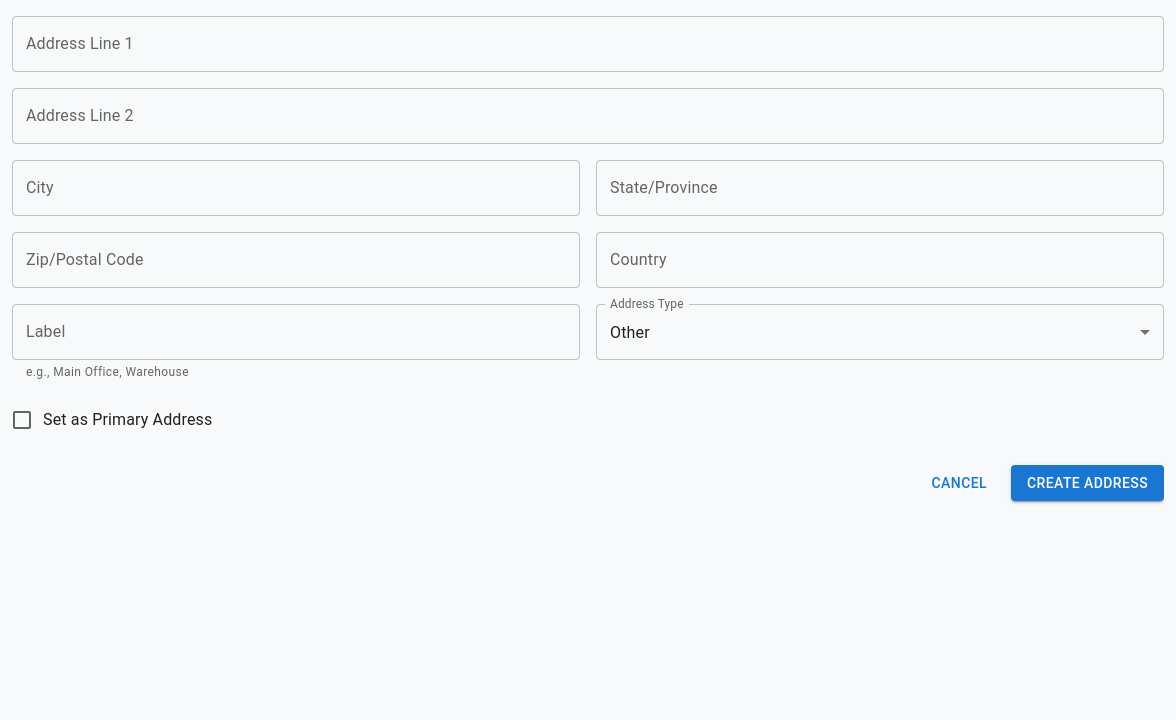
AddressFormComponent › Form Submission › disables submit button while submitting
The width and height of the screenshot is (1176, 720).
Type "123 Main Street" into the field labelled "Address Line 1" at [588, 44], box [12,16,1164,72]
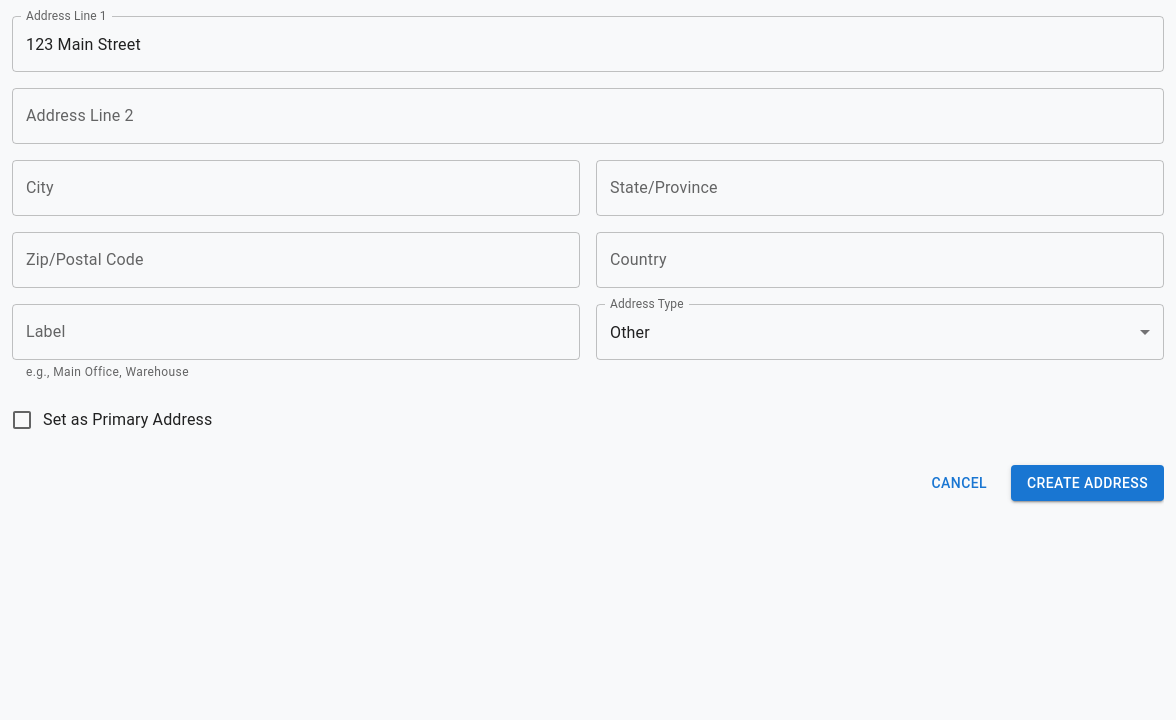
Type "New York" into the field labelled "City" at [296, 188], box [12,160,580,216]
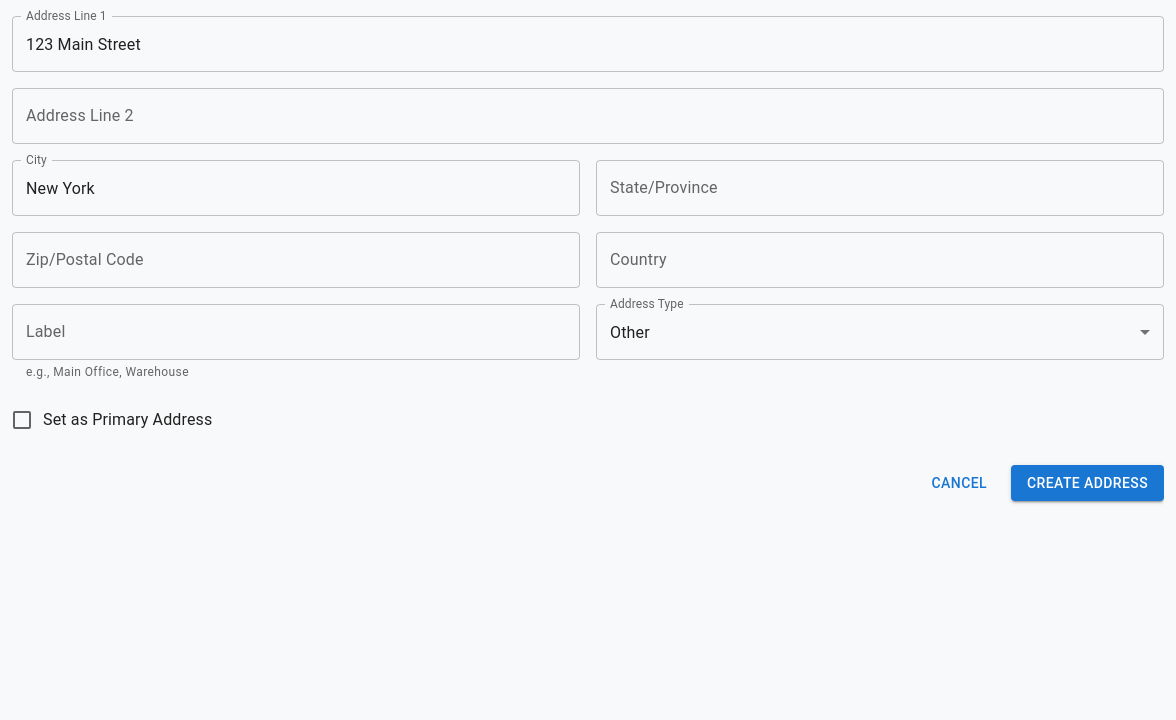
Type "United States" into the field labelled "Country" at [880, 260], box [596,232,1164,288]
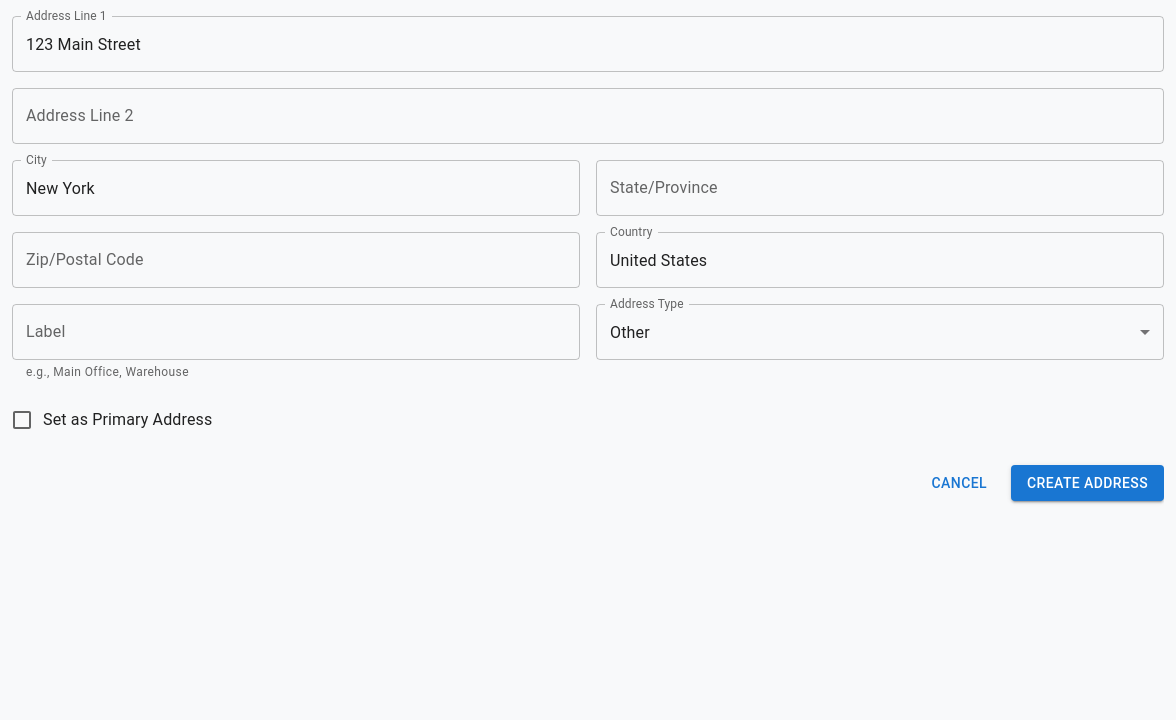
Click the button "Create Address" at [1088, 483], box [1011,465,1164,501]
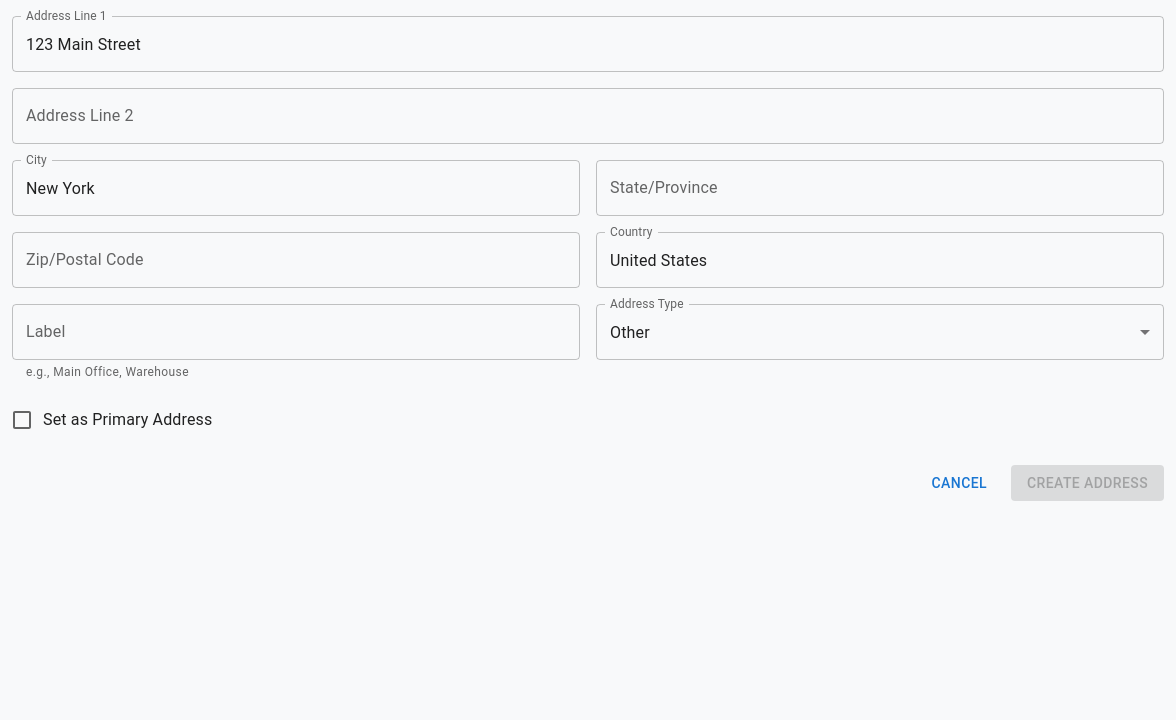
Expected: the button "Create Address" is disabled, [1011,465,1164,501]
